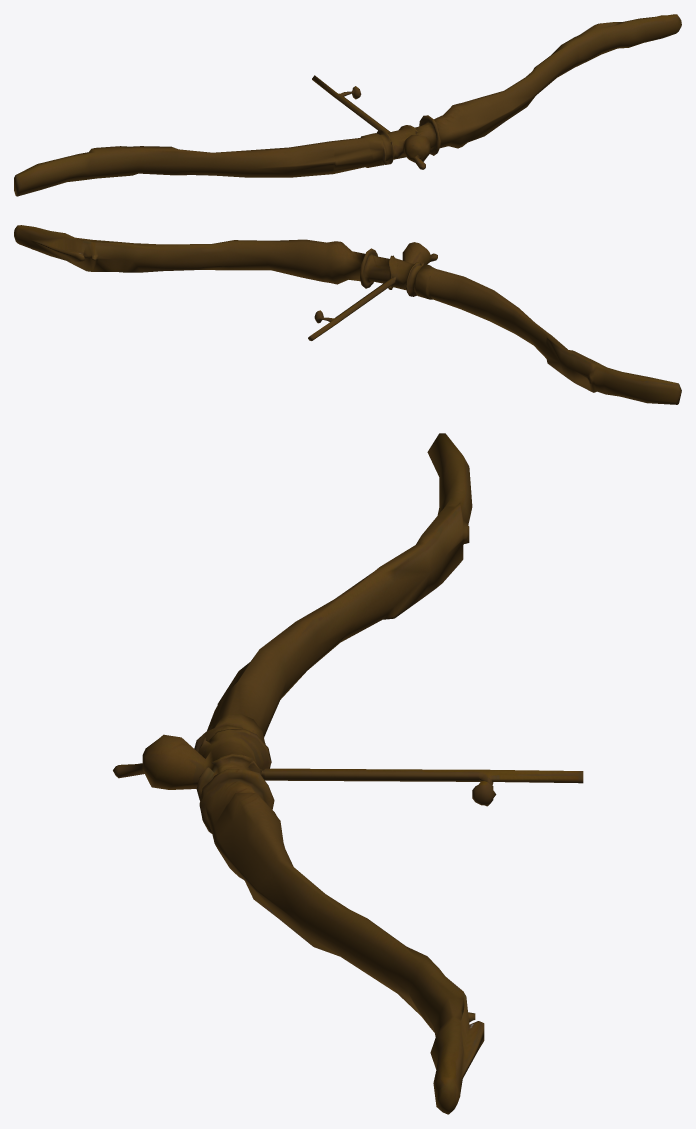
Rendered from bow.glb.
The picture shows the model from 3 angles, top to bottom: view 1: azimuth 30°, elevation 25°; view 2: azimuth 150°, elevation 25°; view 3: azimuth 270°, elevation 25°; orthographic projection. The views are drawn at different scales.
Visible parts, largest first — view 1: base_model_path; view 2: base_model_path; view 3: base_model_path.
Boxes of the visible parts, x1=… form: base_model_path: x1=14, y1=14, x2=681, y2=196; base_model_path: x1=14, y1=225, x2=681, y2=404; base_model_path: x1=113, y1=433, x2=583, y2=1114.
Size of the model in its own units: 0.9969 by 0.0566 by 0.3063.
Materials: 1 (1 with a texture image).
